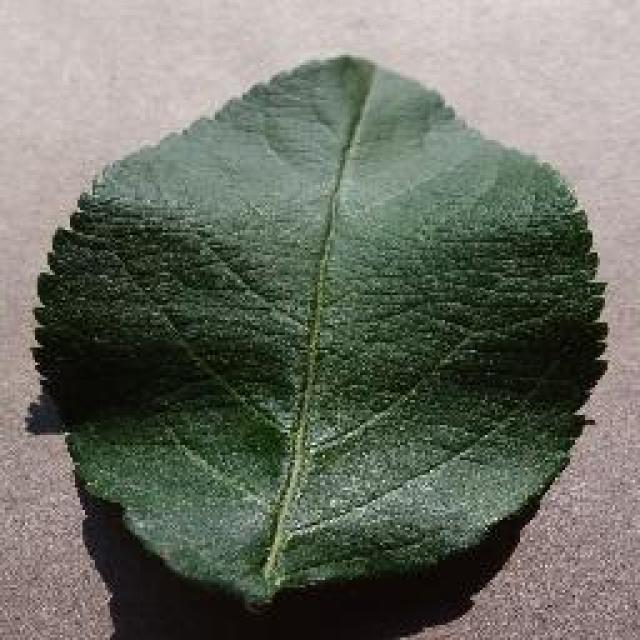apple healthy: (28, 50, 610, 610)
